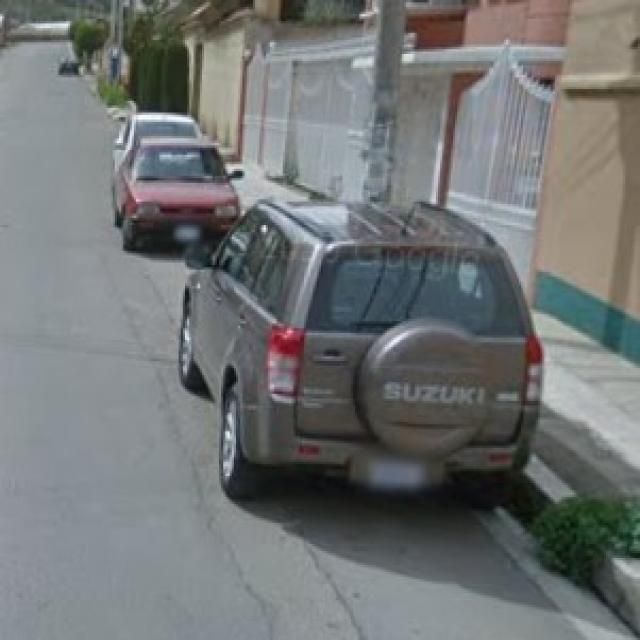cars: (191, 194, 548, 519), (112, 124, 246, 248)
